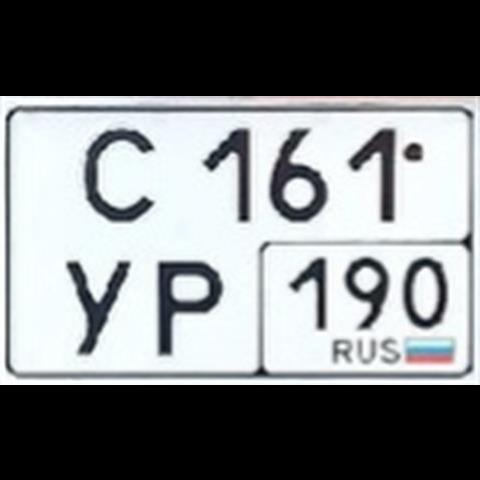license-plateSW: (4, 97, 476, 391)
